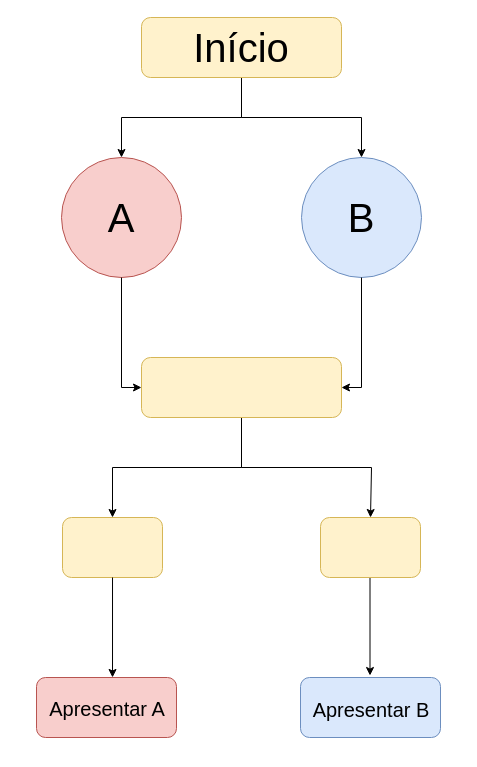
The diagram is 477 pixels wide and 767 high, and some of its shapes have lost their labels. Here are the shapes that lost their labels. From the top down, the centre of each, then its label:
At [241,387]: "A é maior do que B".
At [112,547]: "Sim".
At [370,547]: "Não".
